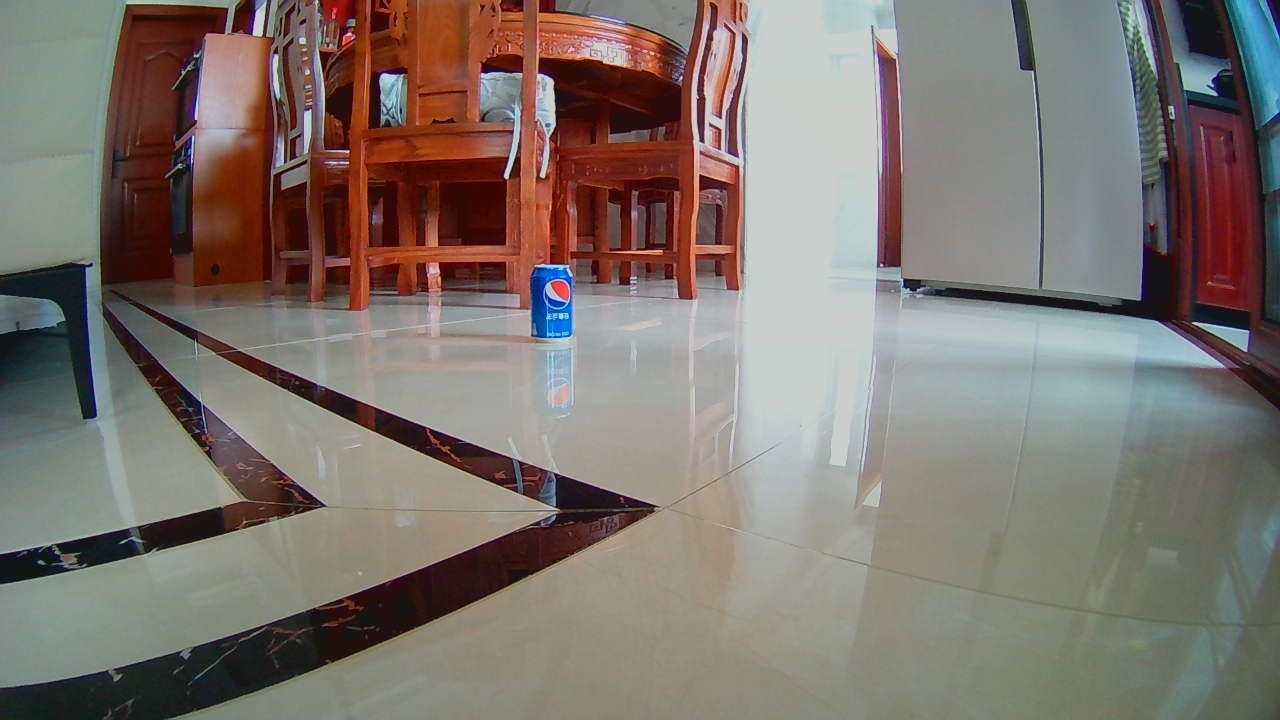pessi: (532, 263, 569, 338)
